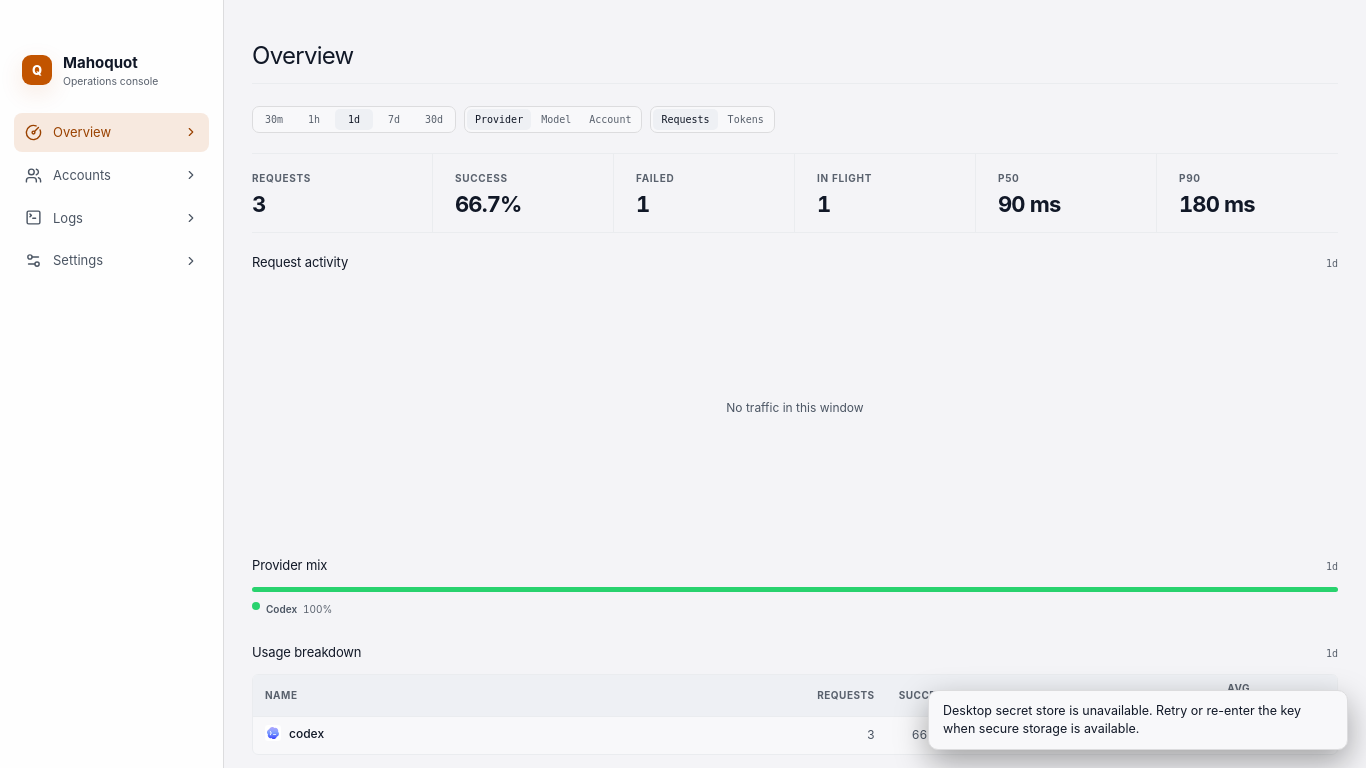
Test: Todo 13 scheduling, history, and price UI states › renders scheduler order and isolation in Settings without account detail leakage
This screenshot has width=1366, height=768.
Expected: the heading "Request activity" is shown, left=252, top=252, right=348, bottom=271
Expected: the text "Account A" is not shown
Click the button "Settings" at (112, 261), box left=14, top=241, right=209, bottom=280
(page scrolled)
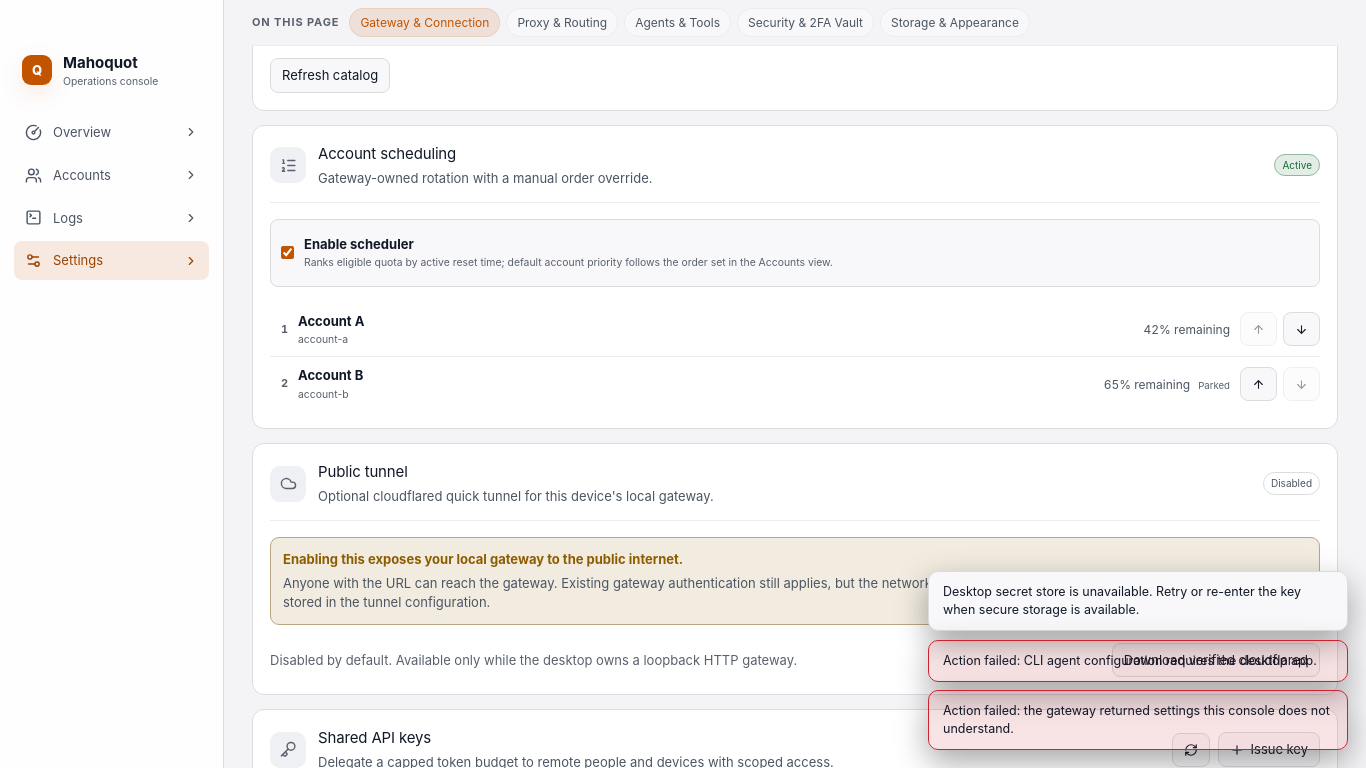
Expected: the checkbox labelled "Enable scheduler" is checked, left=281, top=246, right=294, bottom=259
Expected: the text "42% remaining" is shown, left=1144, top=321, right=1230, bottom=338
Expected: the text "Parked" is shown, left=1198, top=379, right=1230, bottom=393
Click the button named "Move Account B up" at (1258, 384), box left=1240, top=367, right=1277, bottom=401
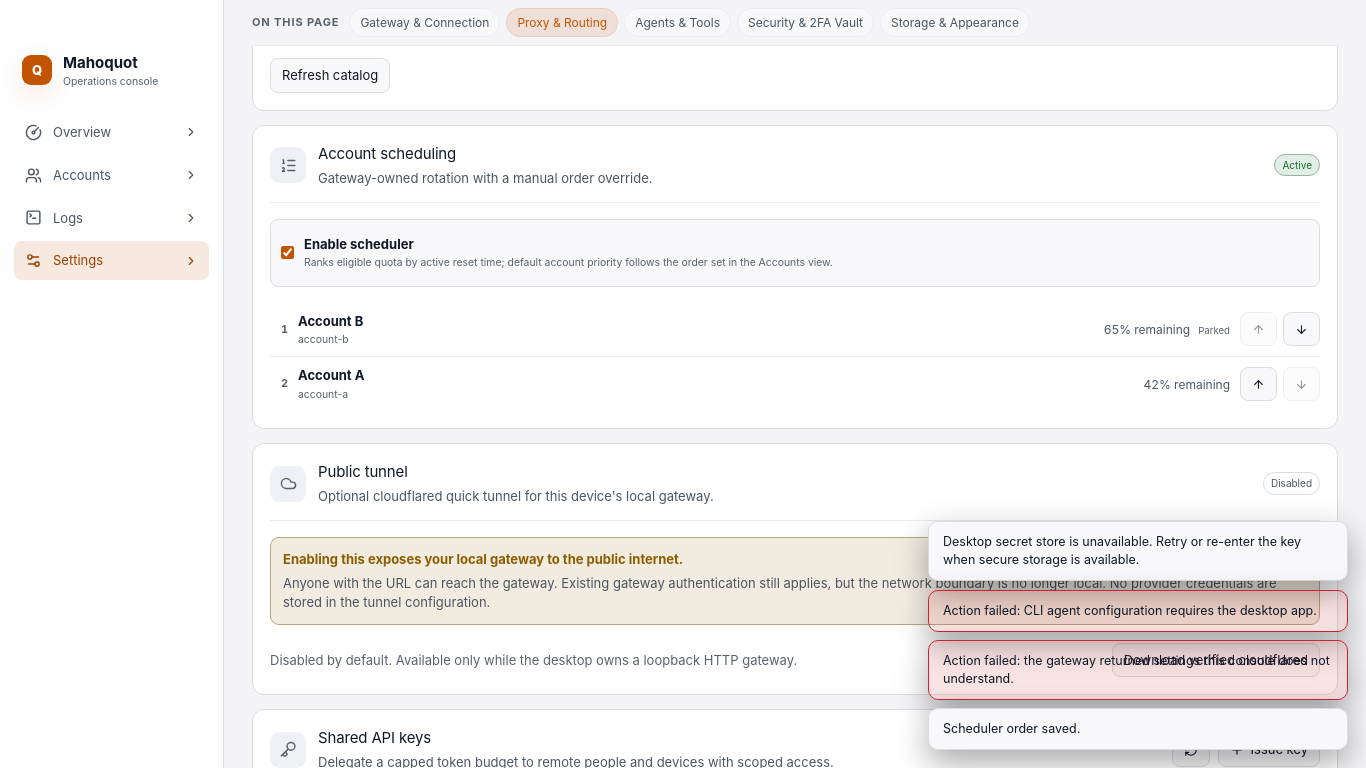
Expected: the button "Scheduler order saved." is shown, left=928, top=708, right=1348, bottom=750
